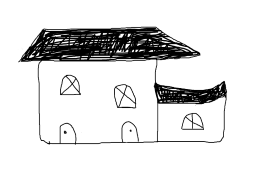closed_window: (111, 80, 141, 113), (56, 71, 83, 98), (178, 110, 207, 133)
door: (116, 118, 142, 144), (56, 119, 79, 147)
shaded_roof: (18, 21, 201, 67), (151, 78, 227, 106)
wall: (35, 57, 160, 146), (156, 97, 229, 145)
